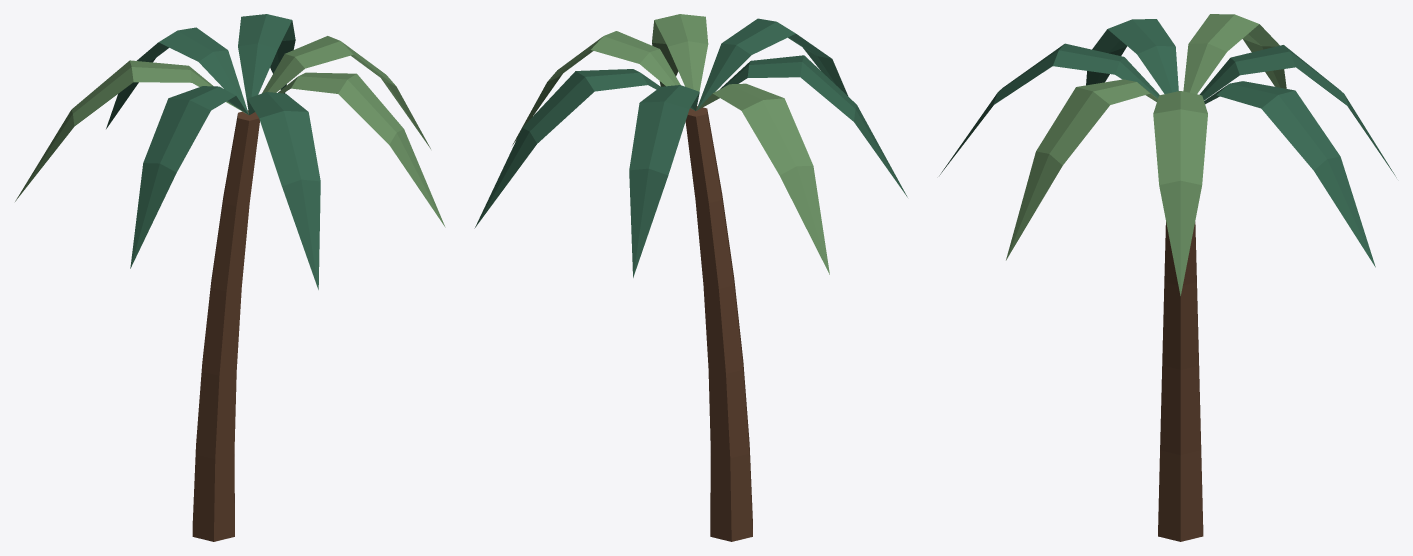
The model's file is PirateCove_WindPalm_Simple.glb.
3 views of the same model, side by side, from view 1: azimuth 30°, elevation 25°; view 2: azimuth 150°, elevation 25°; view 3: azimuth 270°, elevation 25° (orthographic). The views are drawn at different scales.
Parts seen in each view (by area): view 1: PirateCove_WindPalm_Simple; view 2: PirateCove_WindPalm_Simple; view 3: PirateCove_WindPalm_Simple.
Part boxes in pixels (x1,y1,x2,y2): PirateCove_WindPalm_Simple: (15, 14, 445, 541); PirateCove_WindPalm_Simple: (474, 14, 907, 541); PirateCove_WindPalm_Simple: (939, 14, 1396, 541).
Bounding box in the file's own units: 3.11 × 3.72 × 3.2.
